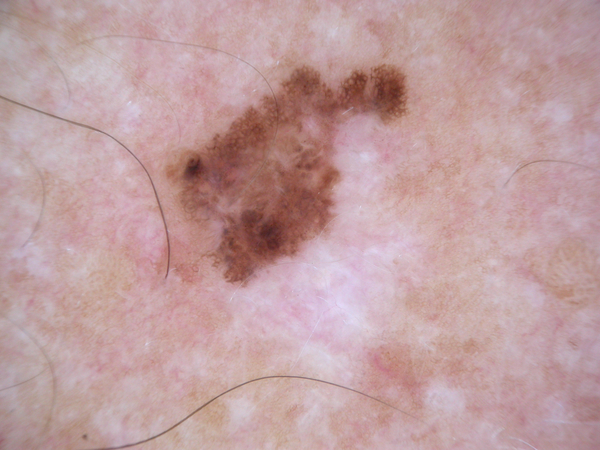Detected Lesion: (151, 59, 424, 289)
